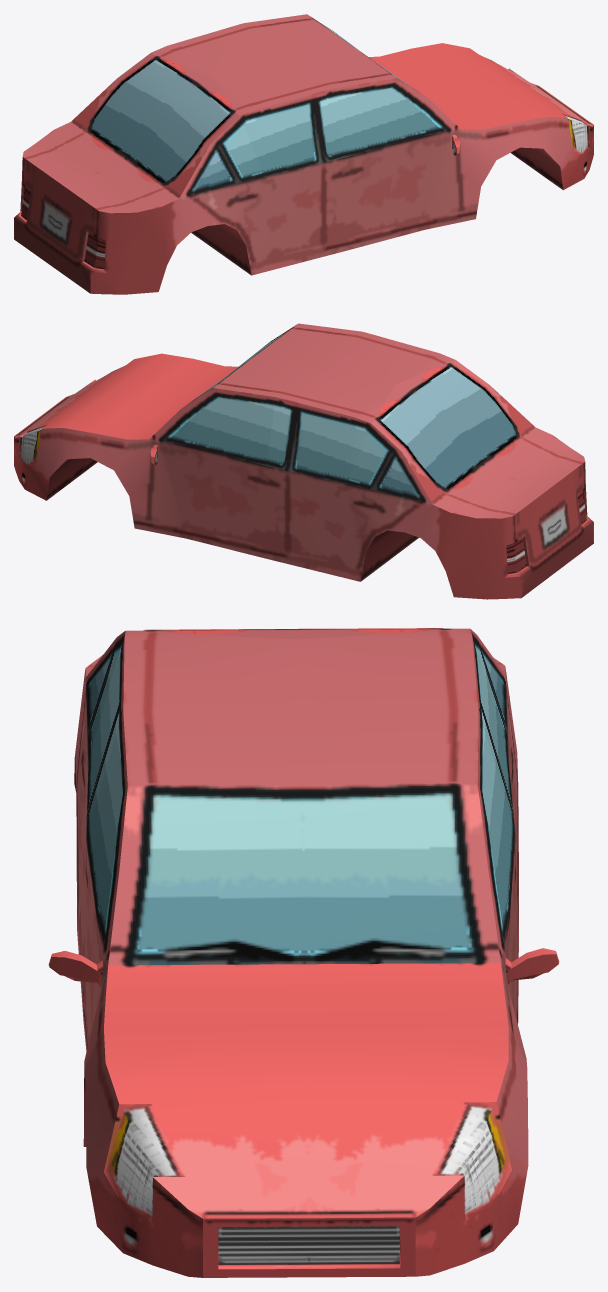
File: PlayerCarBody.fbx
3 views of the same model, one above another, from view 1: azimuth 30°, elevation 25°; view 2: azimuth 150°, elevation 25°; view 3: azimuth 270°, elevation 25° (orthographic). The views are drawn at different scales.
Visible parts, largest first — view 1: Cara; view 2: Cara; view 3: Cara.
Part boxes in pixels (x1,y1,x2,y2): Cara: (14,14,593,294); Cara: (14,323,593,599); Cara: (48,628,559,1277).
Size of the model in its own units: 489 by 140 by 210.
